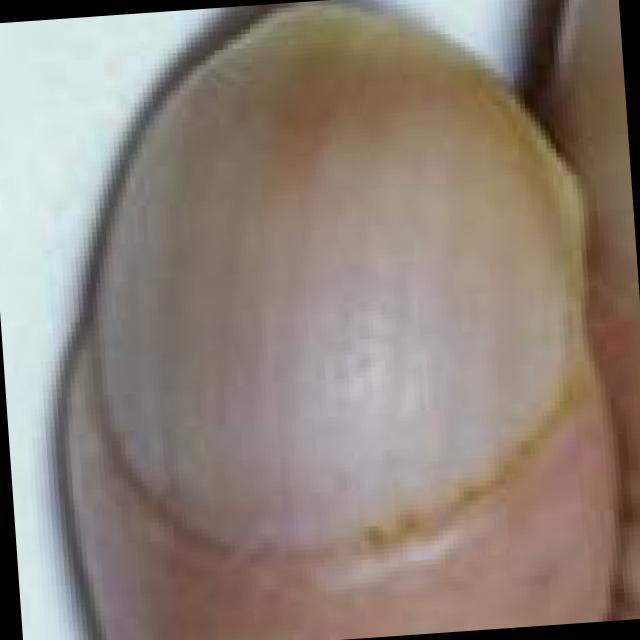Nail: (92, 1, 580, 551)
